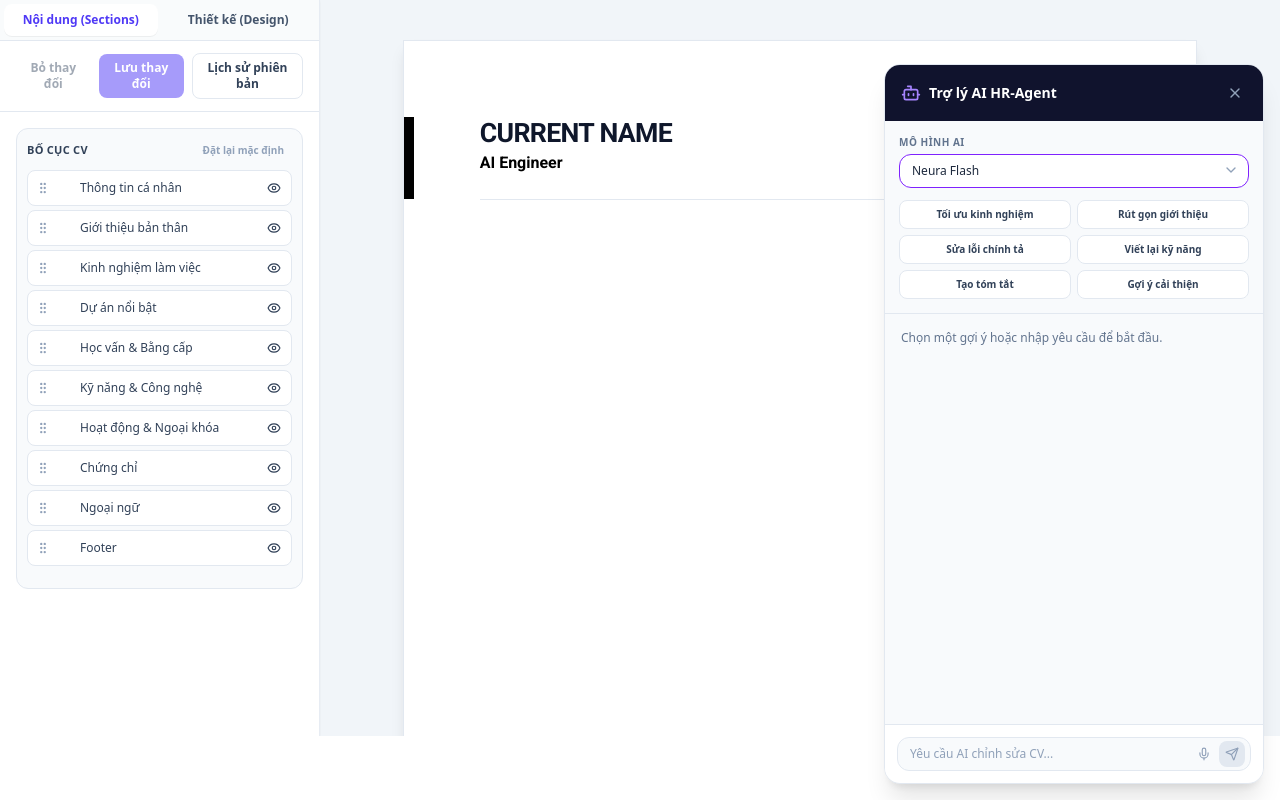
Test: CV version history › shows the server-provided before and after documents for a revision
What coordinates should you click on to do the following:
click the button "Lịch sử phiên bản"
I would click on:
 (247, 76)
Its box is [192,53,303,99].
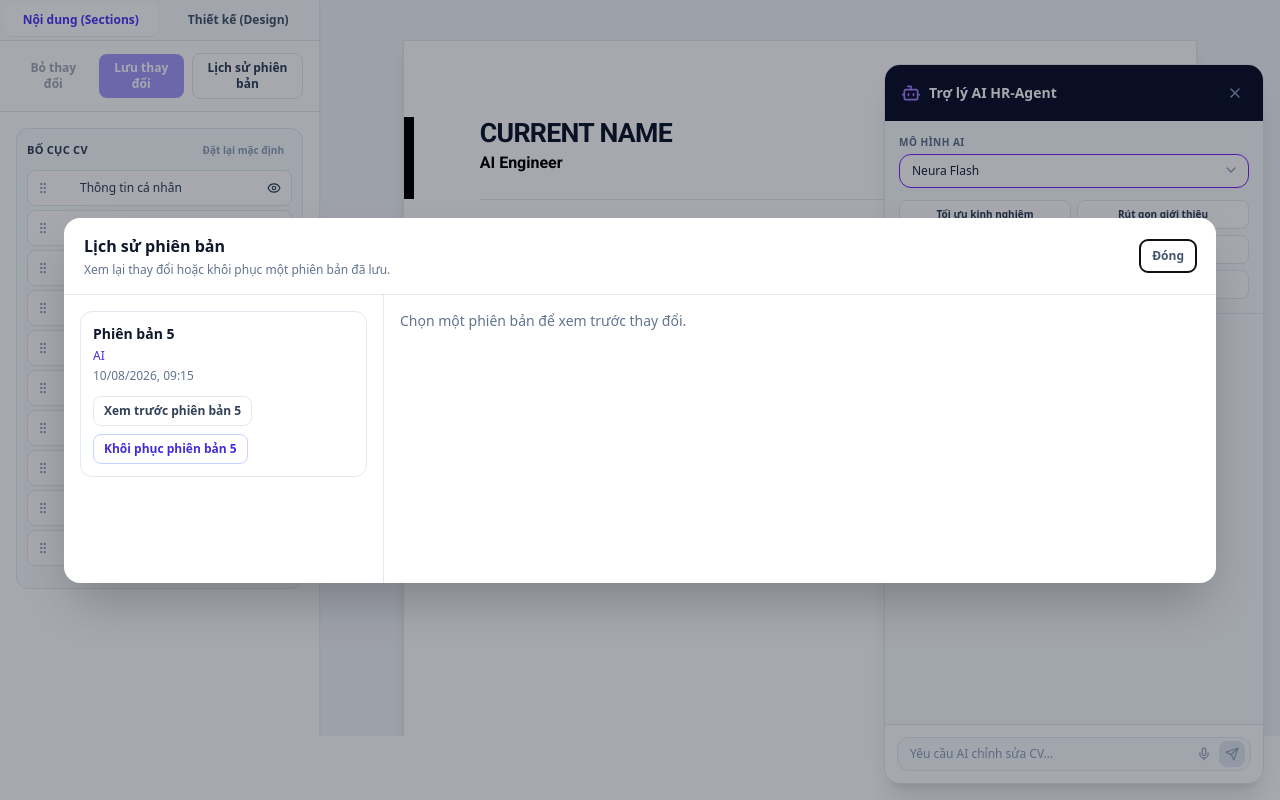
What coordinates should you click on to do the following:
click the button "Xem trước phiên bản 5"
I would click on:
 (173, 410)
Its box is [93,396,252,426].
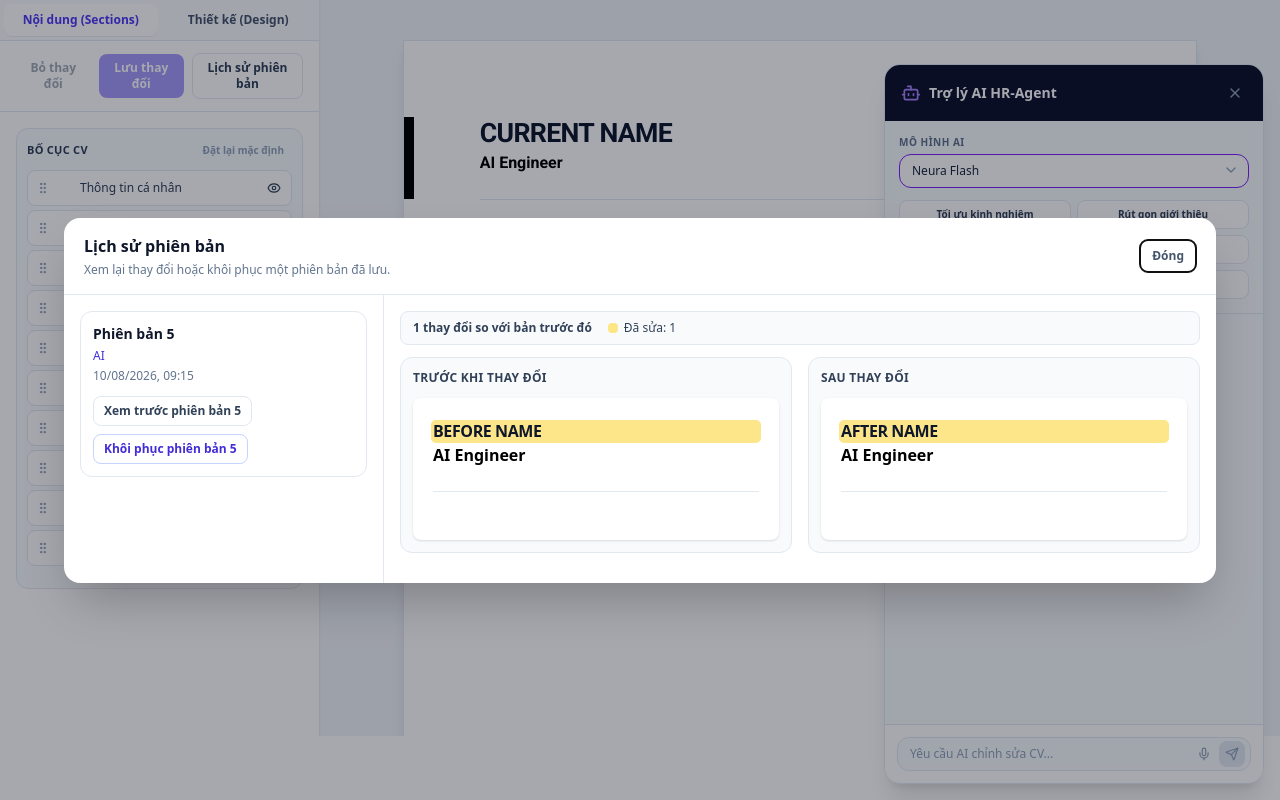
Expected: the heading "Trước khi thay đổi" is shown, [413,368,547,386]
Expected: the heading "Sau thay đổi" is shown, [821,368,909,386]
Expected: the heading "Before name" is shown, [433,422,759,441]
